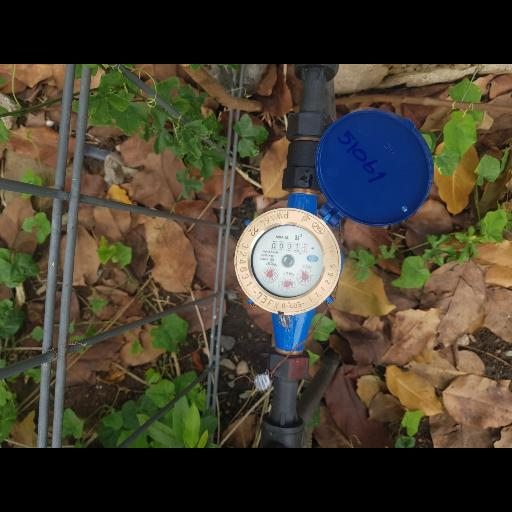0: (271, 240, 277, 250), (279, 241, 285, 251), (286, 241, 292, 251)
1: (294, 242, 301, 252), (302, 243, 308, 253)
border_water_meter_number: (270, 238, 310, 254)
